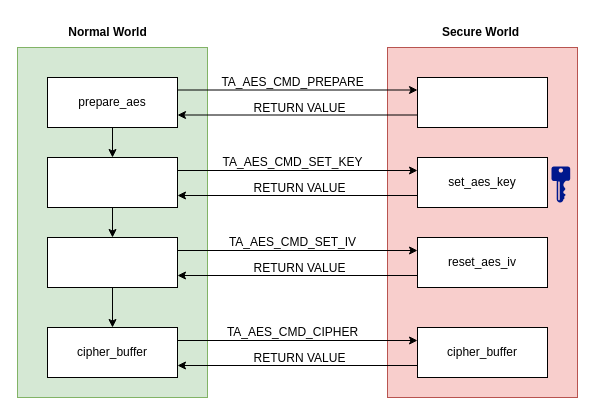
Image size: 595x415. Some labels were removed from this diagram. The shapes that lost their labels are listed below. From the top down, each one's centre as x and y in pixels, then its label:
At [482,102]: "alloc_resources".
At [112,182]: "set_key (key_index)".
At [112,262]: "set_iv".
